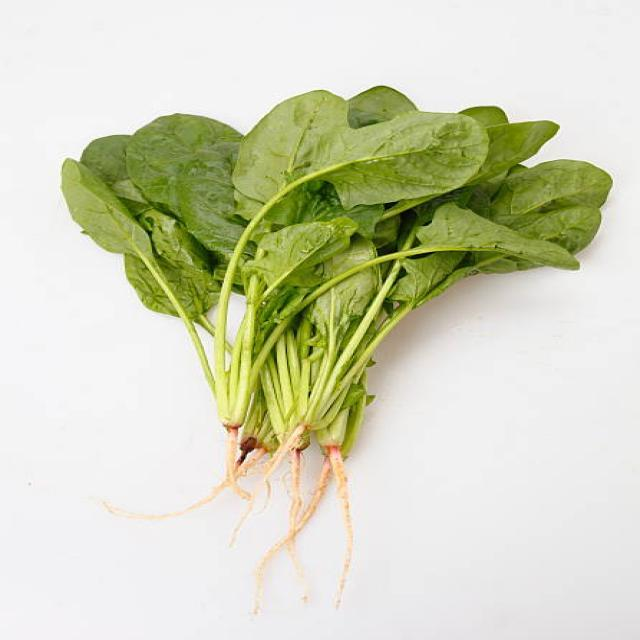Lettuce-Ready-to-Harvest: (60, 85, 613, 495)
